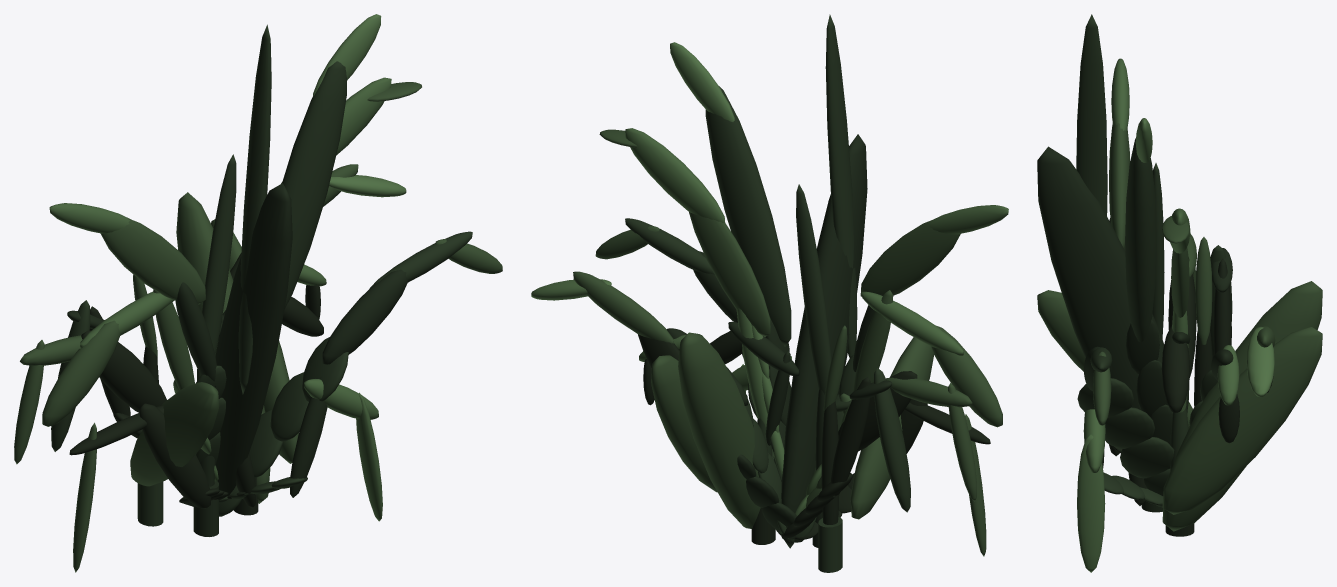
Rendered from CMU3DRMCBushJungle3.glb.
3 renders of one model, left to right at view 1: azimuth 30°, elevation 25°; view 2: azimuth 150°, elevation 25°; view 3: azimuth 270°, elevation 25°, orthographic. The views are drawn at different scales.
Parts seen in each view (by area): view 1: inner source foliage 0, continuous leaf 1 curve 0, continuous leaf 0 curve 0, inner source foliage 2, continuous leaf 3 curve 1, rooted stalk 0 section 1, continuous leaf 6 curve 2, continuous leaf 5 curve 0, inner source foliage 1, continuous leaf 9 curve 0, continuous leaf 7 curve 0, continuous leaf 3 curve 0 (+26 smaller); view 2: inner source foliage 0, inner source foliage 1, continuous leaf 1 curve 0, continuous leaf 0 curve 0, continuous leaf 2 curve 0, continuous leaf 3 curve 1, rooted stalk 0 section 1, continuous leaf 2 curve 1, inner source foliage 2, inner source foliage 3, continuous leaf 8 curve 2, continuous leaf 6 curve 2 (+27 smaller); view 3: inner source foliage 0, inner source foliage 3, continuous leaf 1 curve 0, continuous leaf 0 curve 0, inner source foliage 1, continuous leaf 10 curve 2, continuous leaf 3 curve 1, inner source foliage 2, continuous leaf 12 curve 2, leaf 5 basal stalk section 1, leaf 5 basal stalk section 2, rooted stalk 2 section 1 (+25 smaller).
Boxes of the visible parts, box(x1,y1,x2,y2) form: inner source foliage 0: box(215, 183, 292, 496); continuous leaf 1 curve 0: box(282, 61, 346, 308); continuous leaf 0 curve 0: box(238, 24, 271, 394); inner source foliage 2: box(130, 382, 219, 486); continuous leaf 3 curve 1: box(100, 218, 205, 304); rooted stalk 0 section 1: box(197, 154, 236, 380); continuous leaf 6 curve 2: box(42, 320, 120, 426); continuous leaf 5 curve 0: box(322, 269, 408, 364); inner source foliage 1: box(176, 192, 270, 503); continuous leaf 9 curve 0: box(139, 403, 210, 508); continuous leaf 7 curve 0: box(81, 330, 166, 412); continuous leaf 3 curve 0: box(175, 282, 216, 386); inner source foliage 0: box(781, 134, 867, 548); inner source foliage 1: box(678, 332, 760, 528); continuous leaf 1 curve 0: box(705, 86, 791, 346); continuous leaf 0 curve 0: box(825, 14, 857, 357); continuous leaf 2 curve 0: box(689, 212, 770, 336); continuous leaf 3 curve 1: box(860, 220, 960, 296); rooted stalk 0 section 1: box(796, 184, 831, 394); continuous leaf 2 curve 1: box(625, 128, 725, 223); inner source foliage 2: box(850, 337, 933, 519); inner source foliage 3: box(651, 355, 717, 492); continuous leaf 8 curve 2: box(874, 368, 910, 512); continuous leaf 6 curve 2: box(931, 325, 1002, 427); inner source foliage 0: box(1037, 146, 1188, 427); inner source foliage 3: box(1162, 327, 1322, 514); continuous leaf 1 curve 0: box(1125, 138, 1156, 342); continuous leaf 0 curve 0: box(1076, 14, 1107, 215); inner source foliage 1: box(1162, 281, 1322, 531); continuous leaf 10 curve 2: box(1077, 434, 1105, 572); continuous leaf 3 curve 1: box(1109, 123, 1130, 248); inner source foliage 2: box(1037, 290, 1192, 428); continuous leaf 12 curve 2: box(1161, 326, 1189, 412); leaf 5 basal stalk section 1: box(1120, 437, 1174, 478); leaf 5 basal stalk section 2: box(1105, 407, 1154, 448); rooted stalk 2 section 1: box(1195, 237, 1212, 344).
Bounding box in the file's own units: 1.34 × 1.52 × 0.7742.
